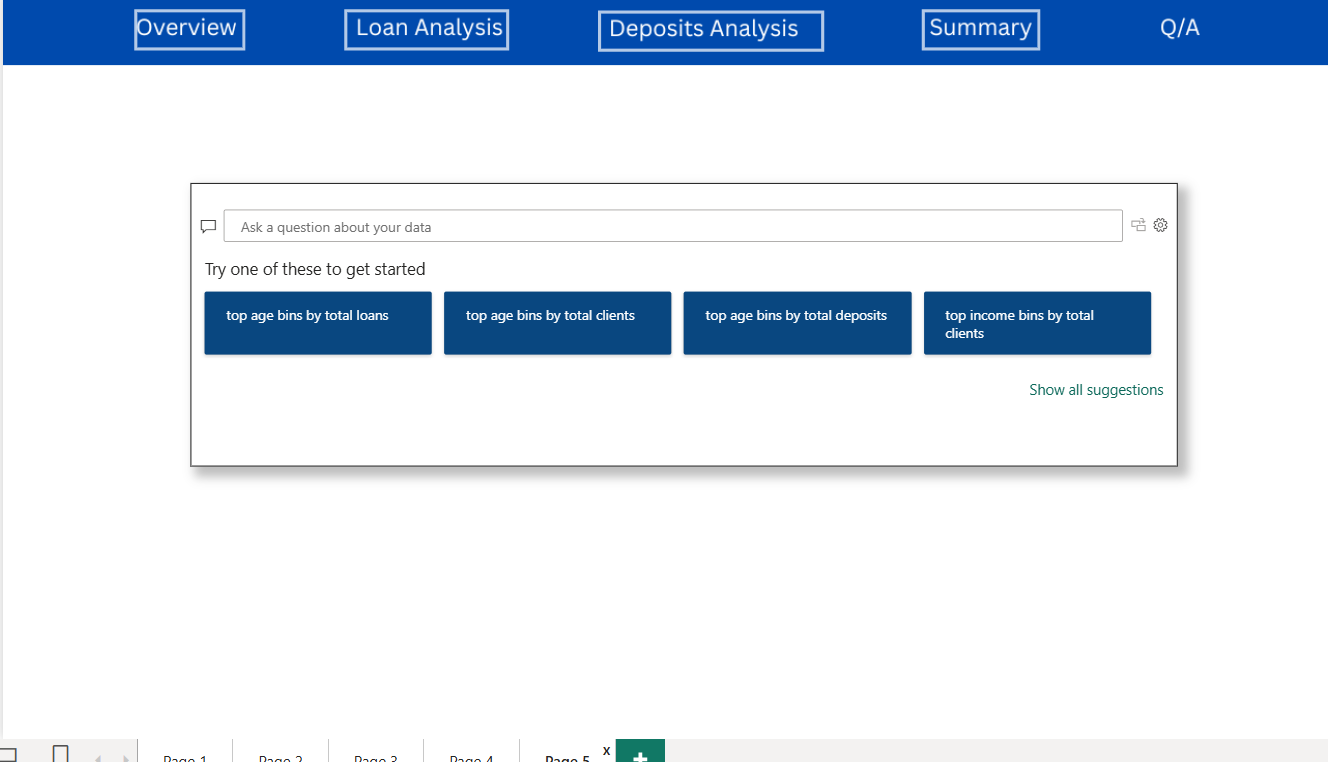

What the dashboard file says about the page in this screenshot:
{"tool":"powerbi","page":{"name":"Page 5","canvas":[1280,720],"ordinal":4},"visuals":[{"type":"actionButton","box":[886.7,15.7,114.6,39.8],"z":0},{"type":"actionButton","box":[126.7,15.7,107.4,39.8],"z":1000},{"type":"actionButton","box":[329.4,15.7,159.3,39.8],"z":2000},{"type":"actionButton","box":[574.3,16.9,218.4,39.8],"z":3000},{"type":"qnaVisual","box":[181,183.4,953.1,273.9],"z":4000}]}

Visuals, with their boxes on the page's 1280x720 design canvas (x1, y1, x2, y2). These are canvas units, not pixel positions in the 1328x762 screenshot, which may show the page scaled, cropped or inside an application window:
actionButton: [887,16,1001,56]
actionButton: [127,16,234,56]
actionButton: [329,16,489,56]
actionButton: [574,17,793,57]
qnaVisual: [181,183,1134,457]
